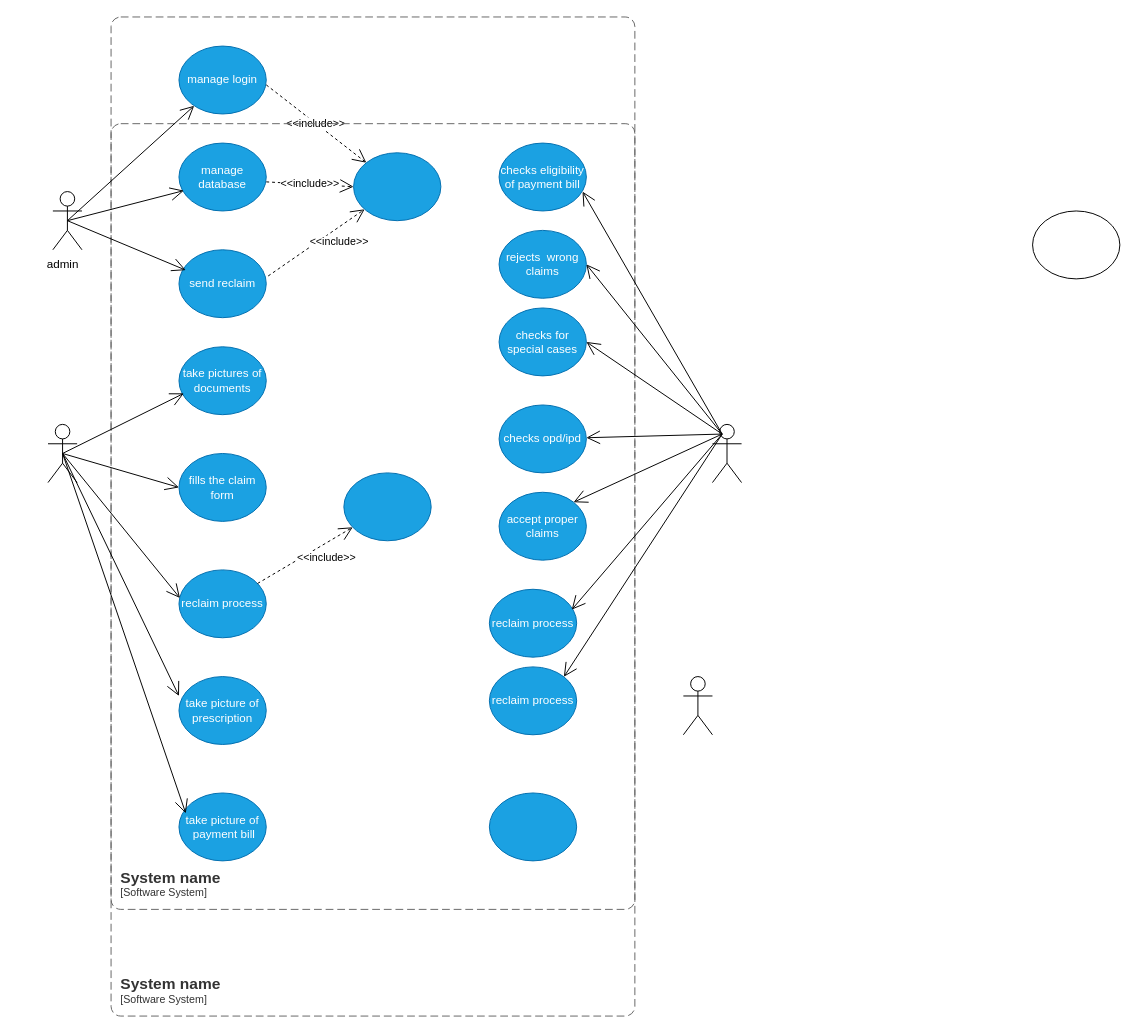
Image size: 1137x1033. Some labels were removed from this diagram. Each missing label, with the centre of its shape:
"Actor" belongs at (x=697, y=705).
"administrative access" belongs at (x=397, y=186).
"claim reviewer" belongs at (x=726, y=453).
"hospital reception" belongs at (x=62, y=453).
"login to the system" belongs at (x=387, y=506).
"Use Case" belongs at (x=1076, y=244).
